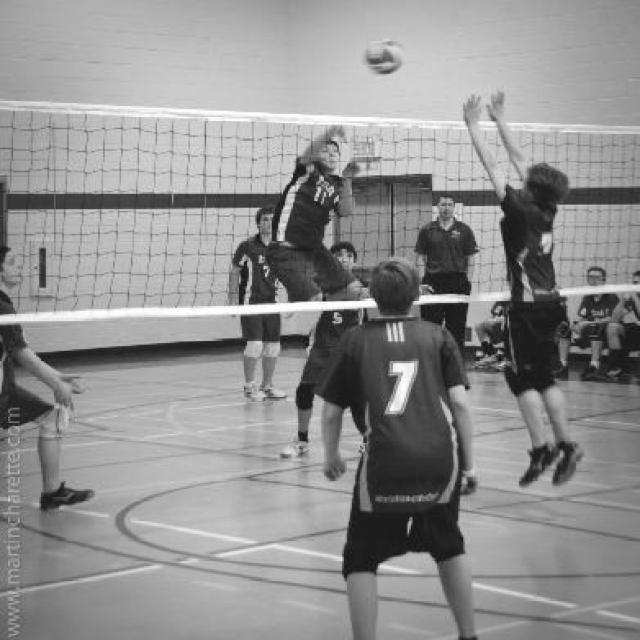volleyball: (364, 39, 406, 75)
